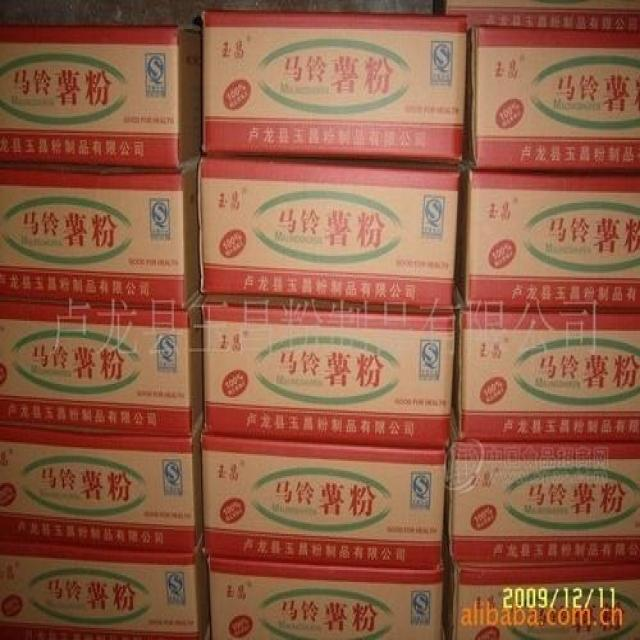box: (202, 9, 467, 164), (197, 154, 461, 307), (202, 294, 456, 449), (201, 432, 445, 570), (0, 155, 201, 309), (0, 294, 204, 435), (0, 26, 202, 167), (452, 292, 640, 442), (0, 415, 204, 553), (444, 427, 640, 568), (458, 162, 640, 311), (465, 27, 640, 172), (0, 539, 211, 640), (209, 556, 445, 640), (443, 551, 640, 640), (433, 0, 640, 31)
